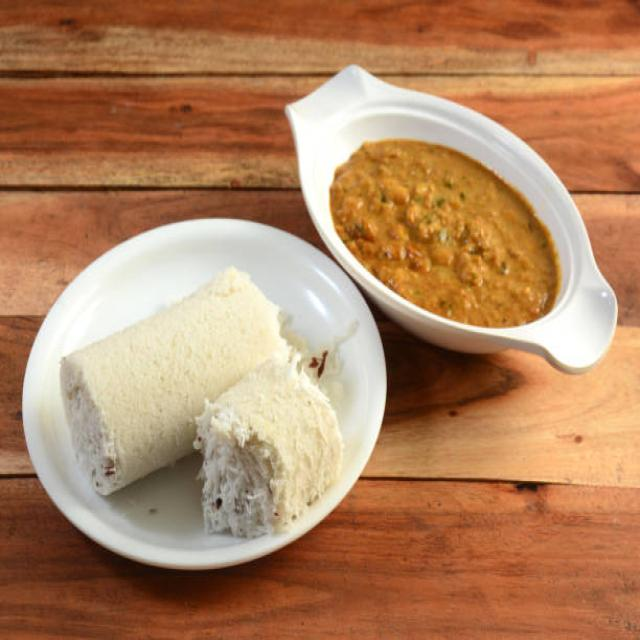CURRY: (328, 137, 561, 326)
PUTTU: (55, 260, 343, 539)
